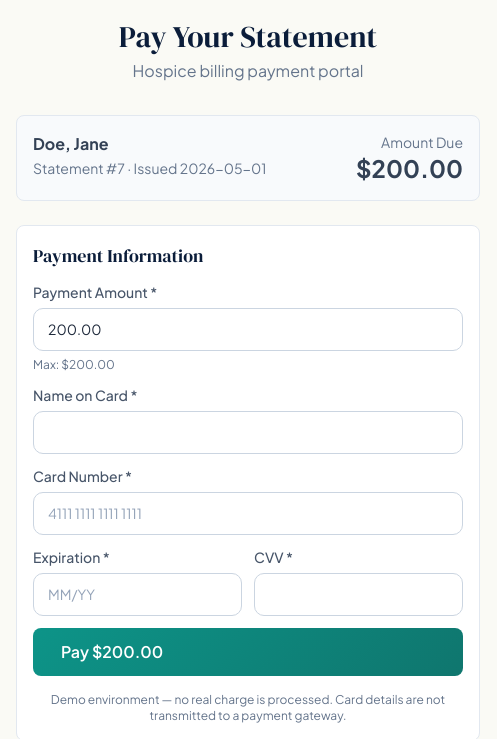
it: PortalPaymentPage › shows partial-pay confirmation when amount < balance
Check: the heading "Pay Your Statement" is shown, box [119,16,377,57]
Replace the text in the number field labelled "Payment Amount * Max: $200.00" with "50": x=248, y=330 [33,308,463,351]
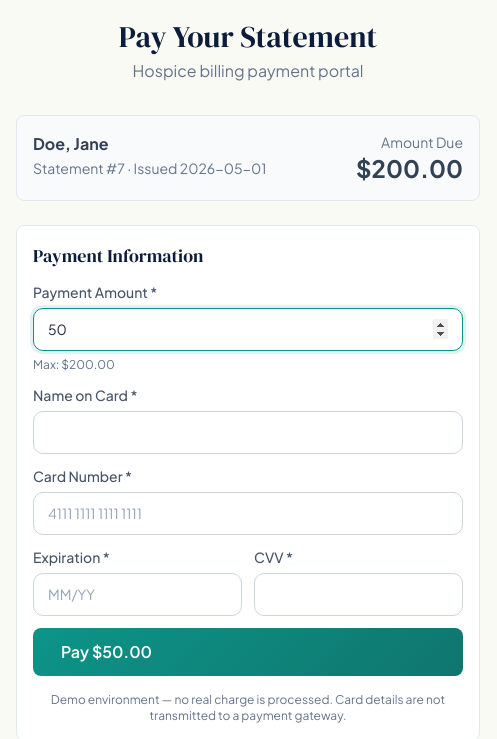
In the field labelled "Name on Card *": x=248, y=432 [33,411,463,454], type "Jane"
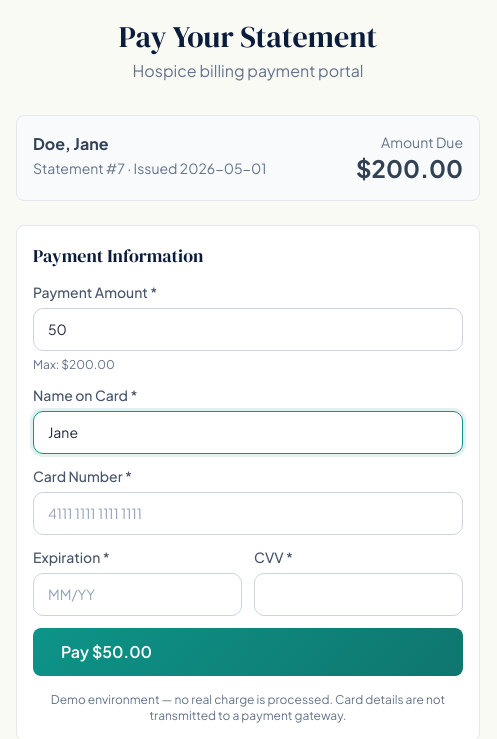
In the field labelled "Card Number *": x=248, y=514 [33,492,463,535], type "4111"
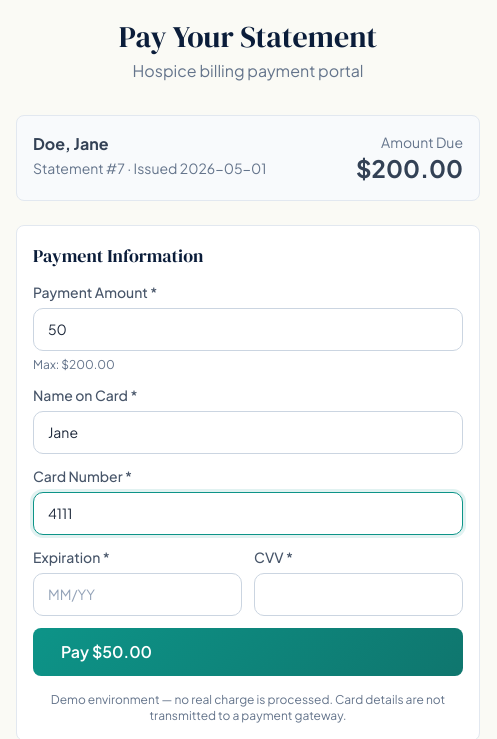
In the field labelled "Expiration *": x=138, y=594 [33,573,242,616], type "12/29"
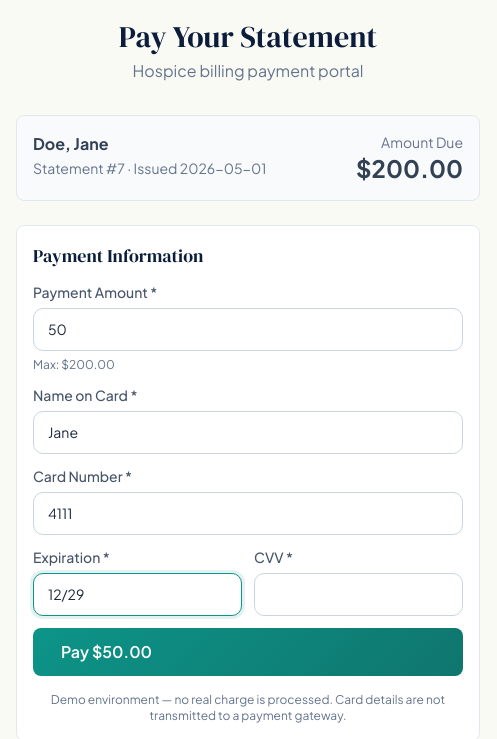
In the field labelled "CVV *": x=358, y=594 [254,573,463,616], type "123"
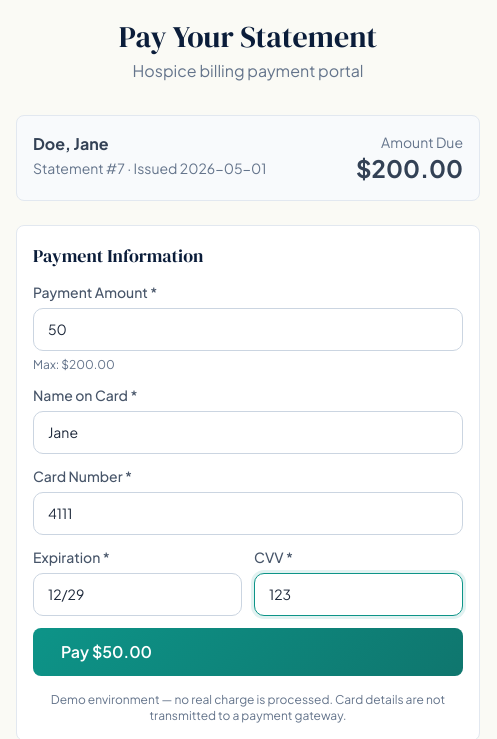
Click the button "Pay $50.00": x=107, y=652 [33,628,463,676]
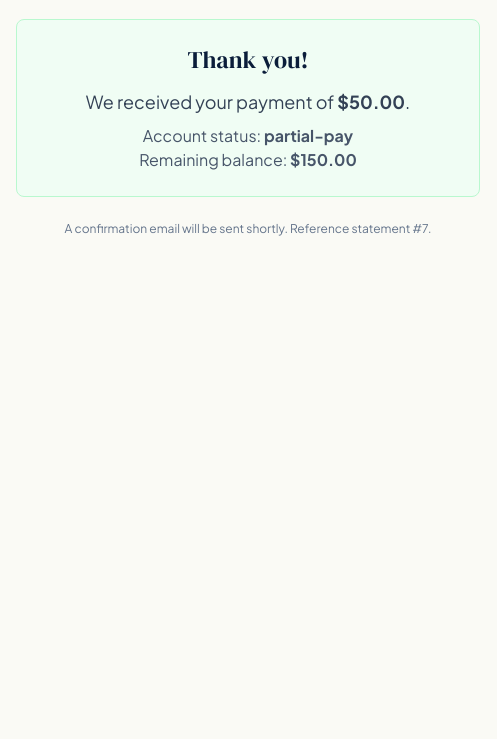
Check: the heading "Thank you!" is shown, box [187,43,308,76]
Check: the text "Remaining balance: $150.00" is shown, box [139,149,357,170]
